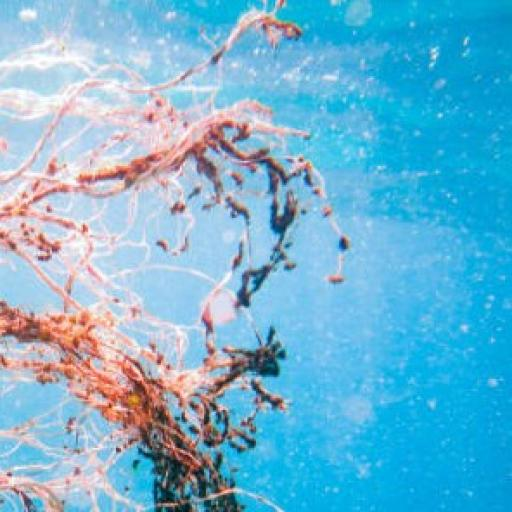net: (0, 2, 365, 512)
